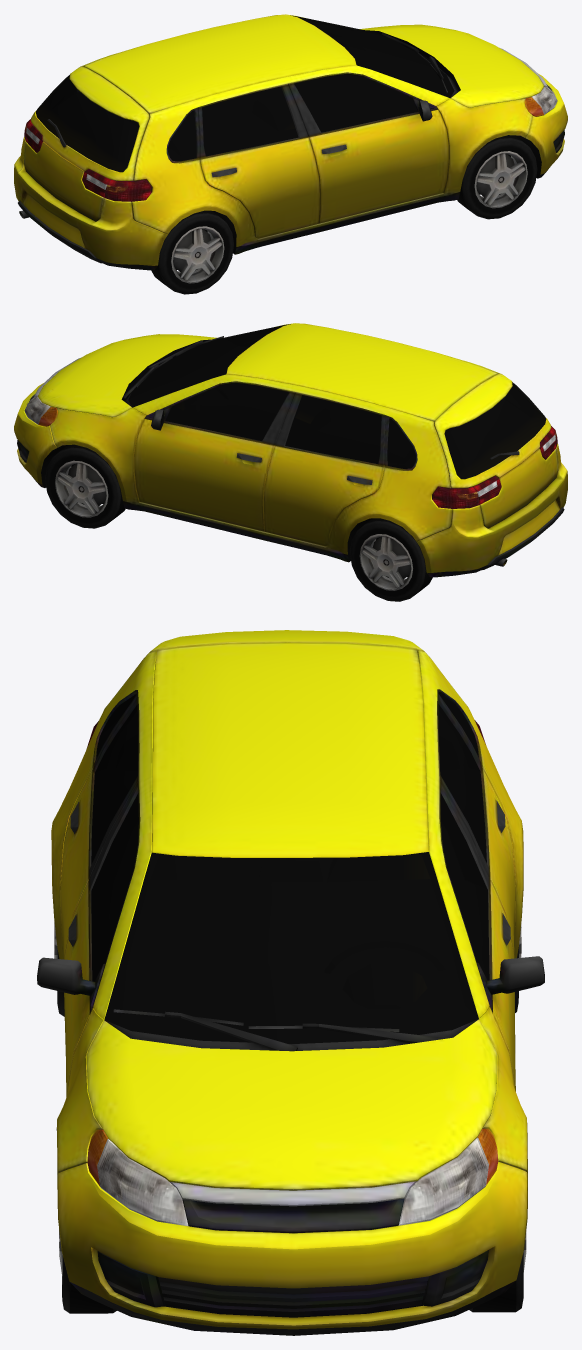
The model's file is traffic_hatchback.glb.
3 views of the same model, one above another, from view 1: azimuth 30°, elevation 25°; view 2: azimuth 150°, elevation 25°; view 3: azimuth 270°, elevation 25° (orthographic). The views are drawn at different scales.
Parts seen in each view (by area): view 1: Hatchback Body_Body_0, Hatchback Body_Glass_0, Wheel_B002_Wheek_0, Wheel_B003_Wheek_0, Hatchback Body_Optics_0; view 2: Hatchback Body_Body_0, Hatchback Body_Glass_0, Wheel_B_Wheek_0, Wheel_B001_Wheek_0, Hatchback Body_Optics_0; view 3: Hatchback Body_Body_0, Hatchback Body_Glass_0, Hatchback Body_Optics_0, Wheel_B002_Wheek_0, Wheel_B_Wheek_0.
Part boxes in pixels (box(x1,y1,x2,y2)): Hatchback Body_Body_0: box(14, 14, 567, 270); Hatchback Body_Glass_0: box(35, 15, 454, 172); Wheel_B002_Wheek_0: box(457, 135, 537, 219); Wheel_B003_Wheek_0: box(151, 210, 233, 294); Hatchback Body_Optics_0: box(24, 86, 557, 201); Hatchback Body_Body_0: box(14, 323, 567, 577); Hatchback Body_Glass_0: box(128, 324, 546, 479); Wheel_B_Wheek_0: box(45, 444, 125, 528); Wheel_B001_Wheek_0: box(350, 518, 432, 601); Hatchback Body_Optics_0: box(24, 396, 557, 508); Hatchback Body_Body_0: box(37, 630, 544, 1335); Hatchback Body_Glass_0: box(91, 693, 489, 1043); Hatchback Body_Optics_0: box(86, 720, 498, 1226); Wheel_B002_Wheek_0: box(59, 1229, 116, 1313); Wheel_B_Wheek_0: box(469, 1232, 526, 1312).
Size of the model in its own units: 3.96 by 1.35 by 1.74.
4 materials, 3 textured.
